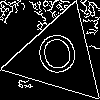O: (33, 31, 84, 85)
